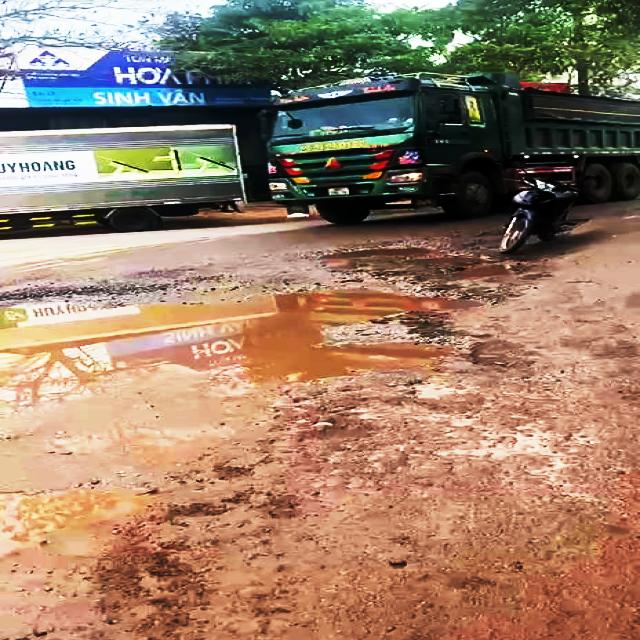pothole: (0, 245, 548, 408), (0, 472, 164, 555)
